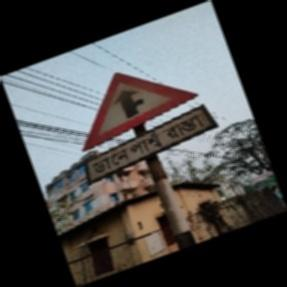Side-road-right: (78, 72, 211, 192)
